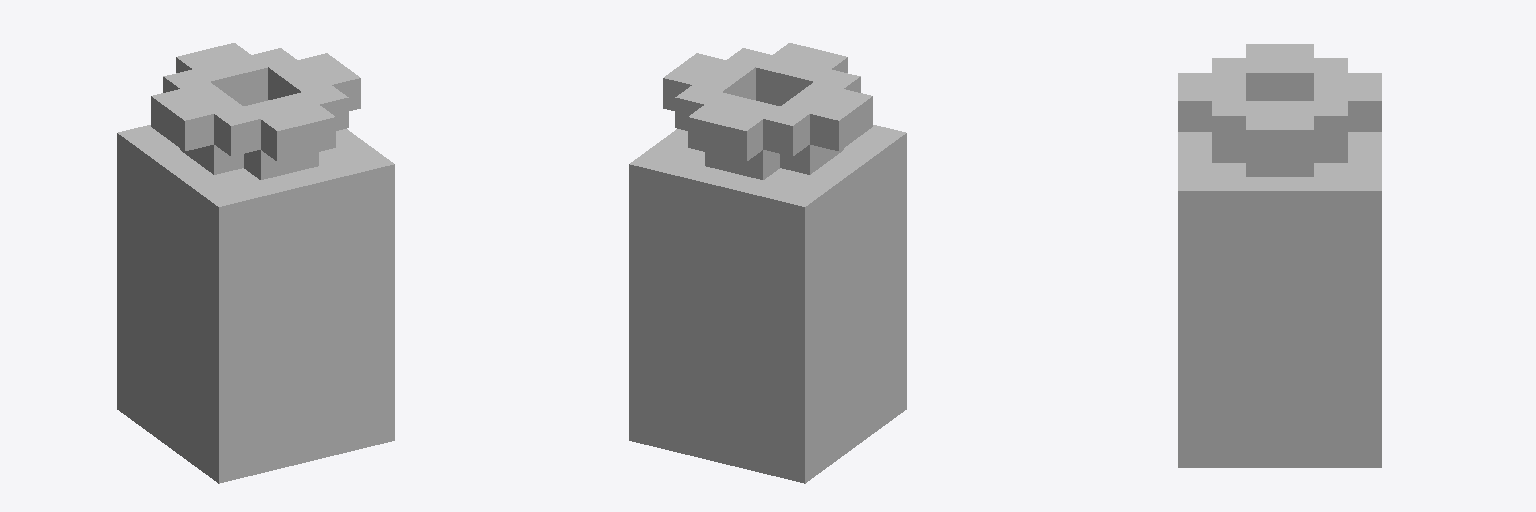
File: Pot3.obj
3 renders of one model, left to right at view 1: azimuth 30°, elevation 25°; view 2: azimuth 150°, elevation 25°; view 3: azimuth 270°, elevation 25°, orthographic.
Parts seen in each view (by area): view 1: mergedBlocks; view 2: mergedBlocks; view 3: mergedBlocks.
Boxes of the visible parts, x1,y1,x2,y2 form: mergedBlocks: [117, 43, 394, 483]; mergedBlocks: [629, 43, 906, 483]; mergedBlocks: [1178, 44, 1381, 467].
Size of the model in its own units: 0.2822 by 0.5174 by 0.2822.